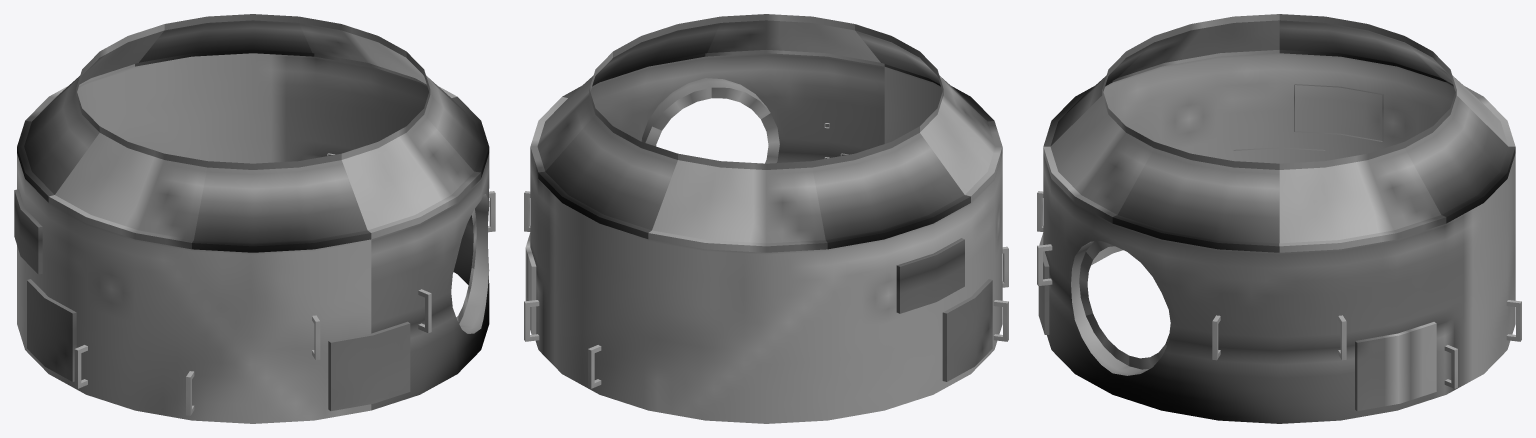
Rendered from airlock.fbx.
3 views of the same model, side by side, from view 1: azimuth 30°, elevation 25°; view 2: azimuth 150°, elevation 25°; view 3: azimuth 270°, elevation 25° (orthographic).
Parts seen in each view (by area): view 1: mesh; view 2: mesh; view 3: mesh.
Boxes of the visible parts, left/top/right/bottom form: mesh: left=14, top=14, right=495, bottom=423; mesh: left=524, top=14, right=1008, bottom=423; mesh: left=1037, top=14, right=1521, bottom=423.
Size of the model in its own units: 2.57 by 1.38 by 2.57.
